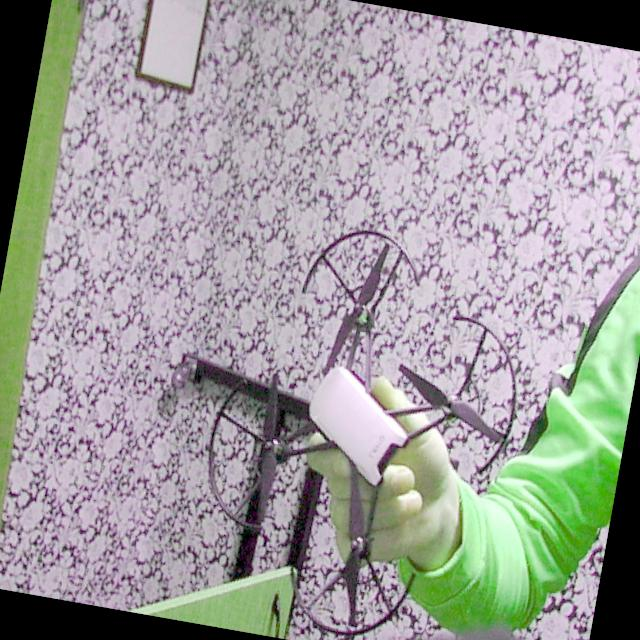drone: (175, 196, 552, 640)
